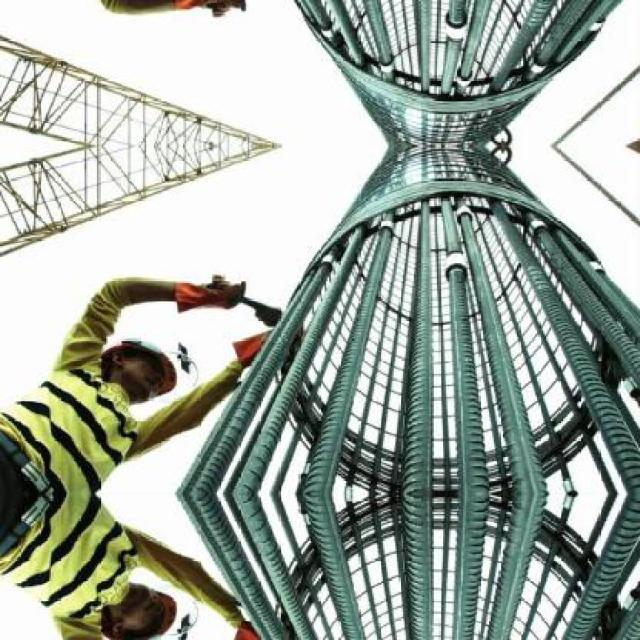helmet: (94, 303, 192, 402), (94, 583, 194, 639)
